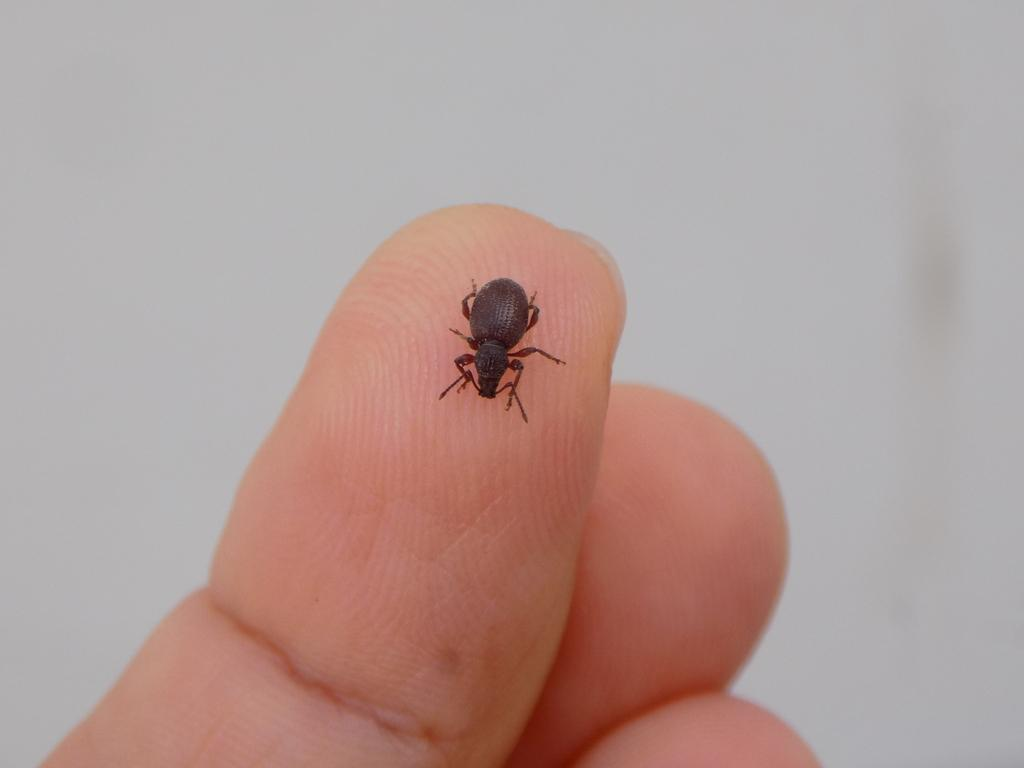weevils: (411, 251, 580, 449)
